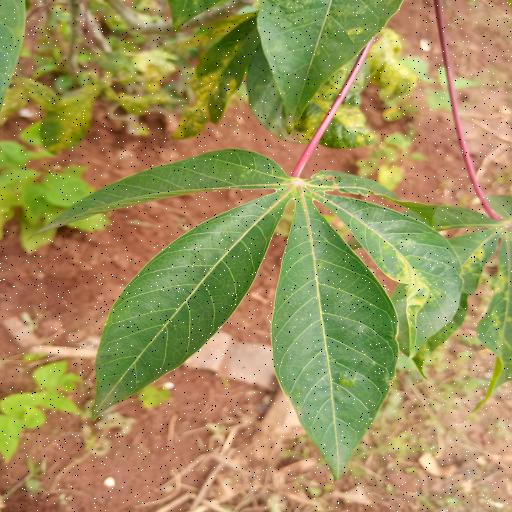Cassava_Mosaic: (57, 144, 474, 477)
